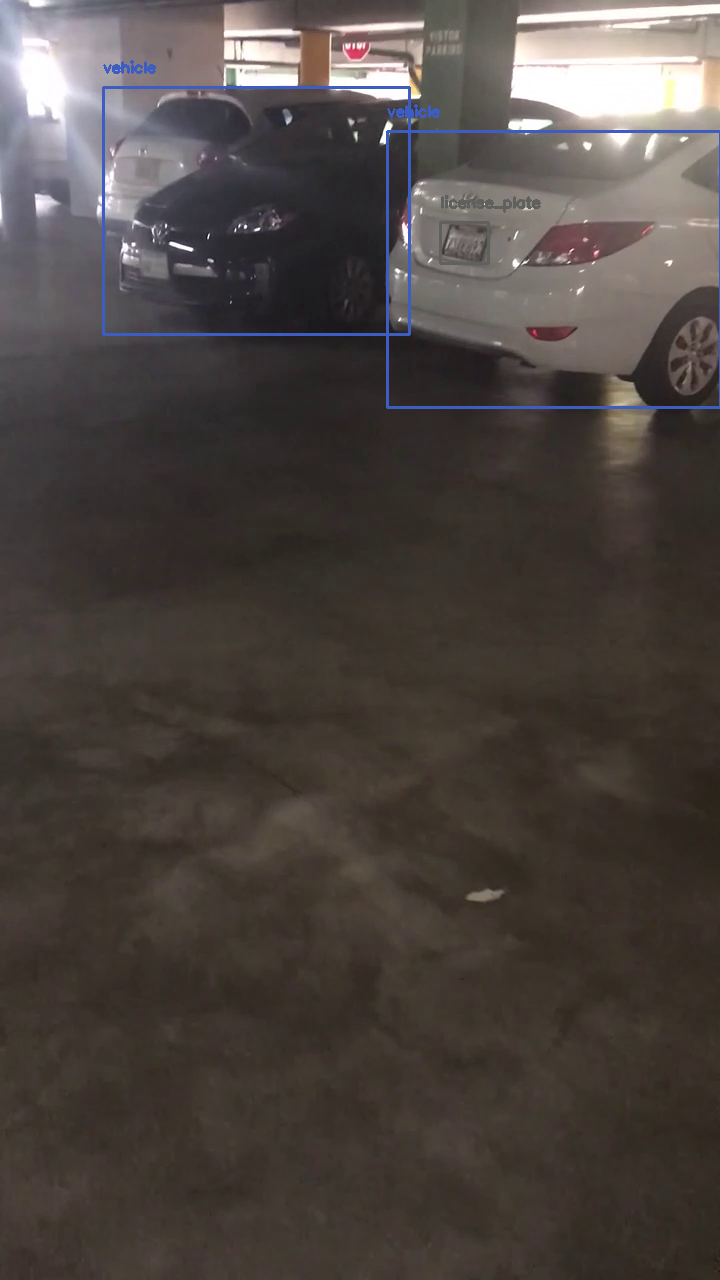license_plate: (440, 222, 488, 263)
vehicle: (387, 131, 720, 407), (103, 87, 409, 334)
